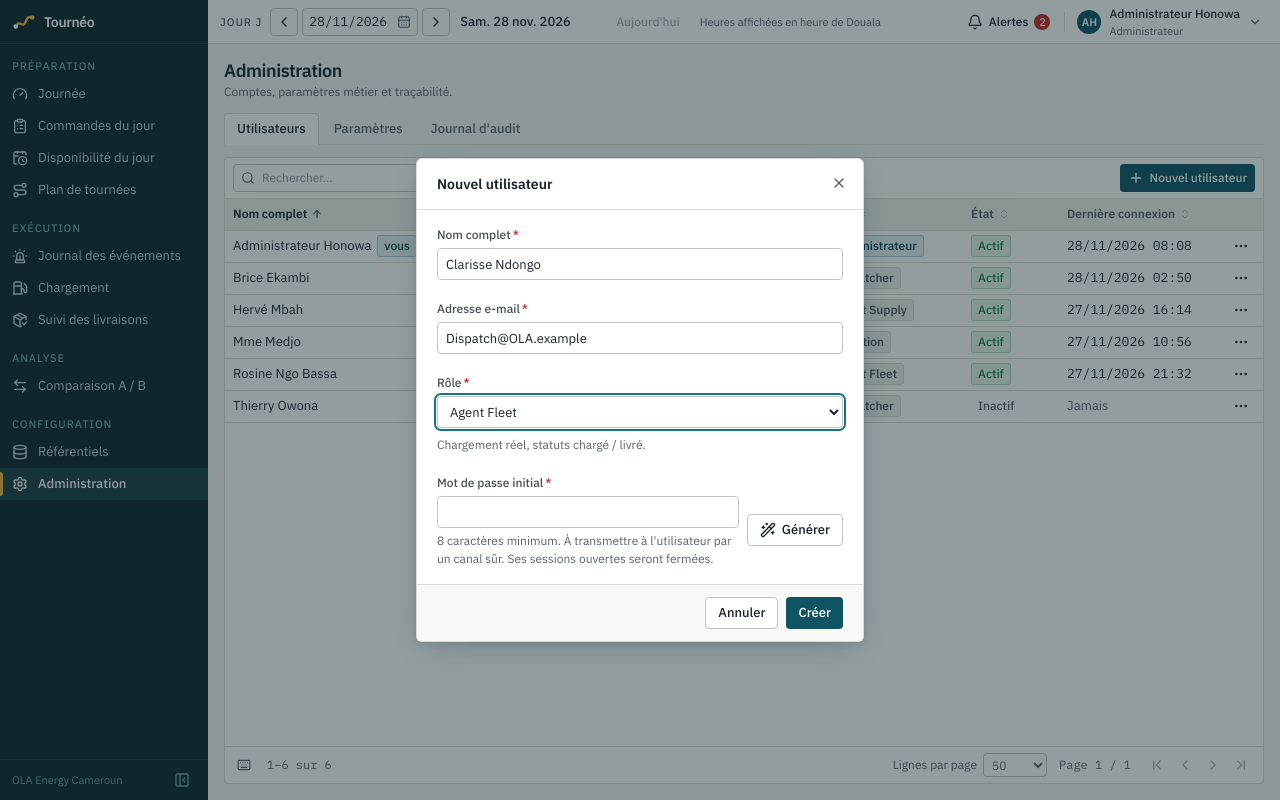
Test: Administration — utilisateurs › création : validation, mot de passe généré, e-mail déjà pris signalé sur le champ
Earlier steps of the test are not shown.
Check: the text "Chargement réel, statuts chargé / livré." is shown, box [437,437,646,452]
Type "court" into the field labelled "Mot de passe initial*" at coordinates (588, 512), box [437,496,739,528]
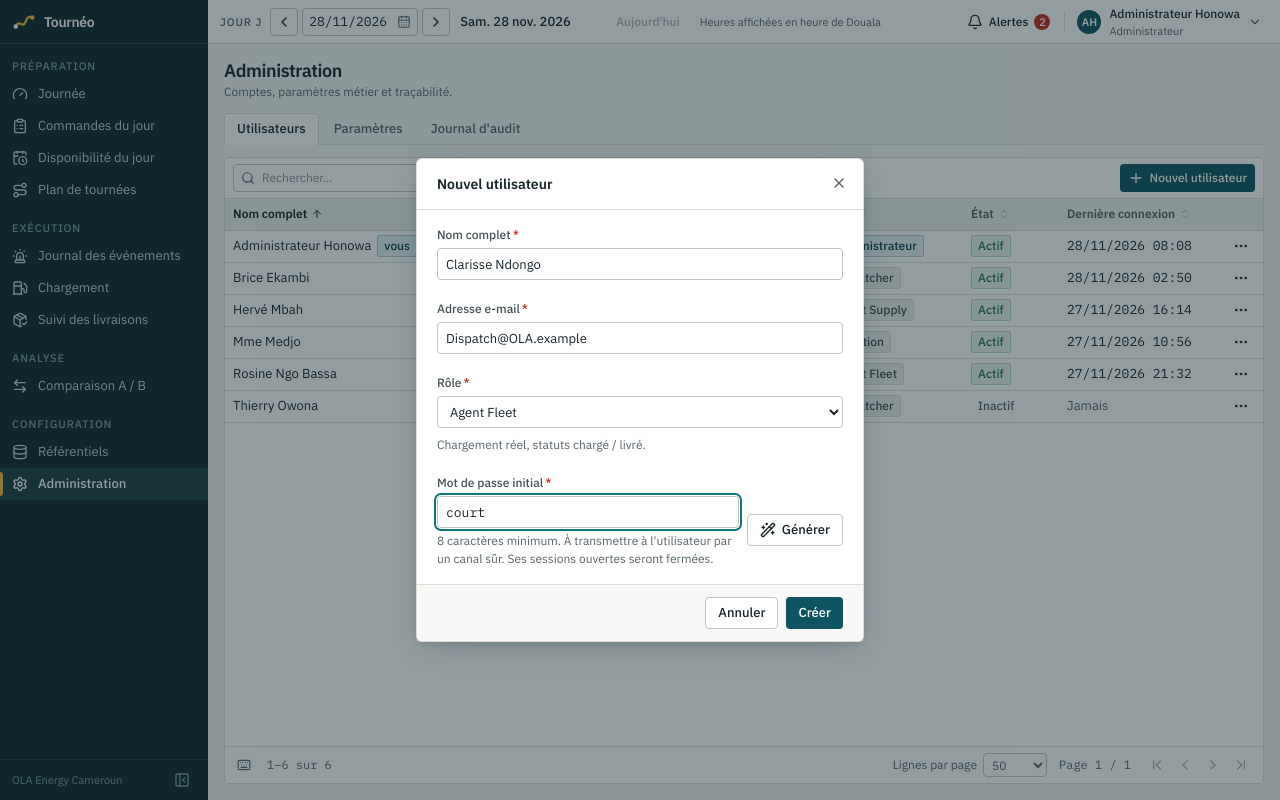
Click the button "Créer" at coordinates (815, 613), box [786,597,843,629]
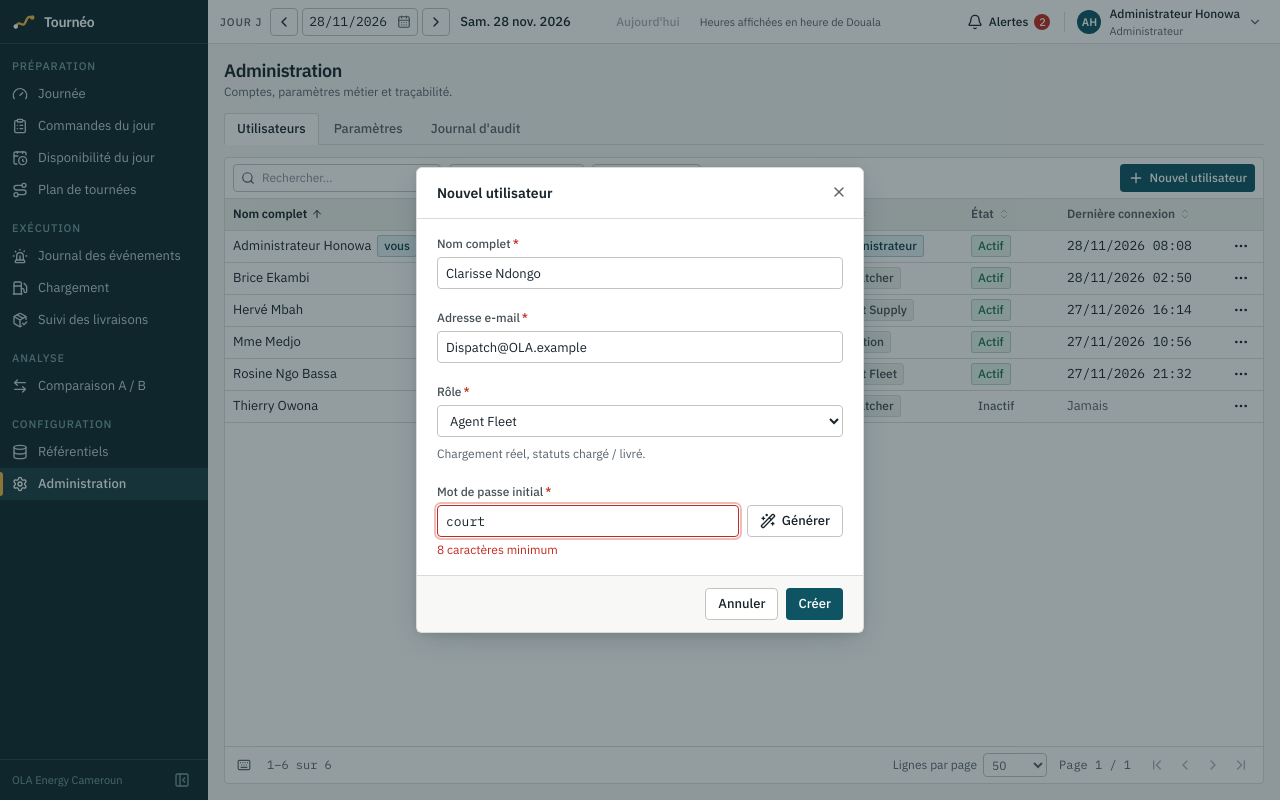
Check: the text "8 caractères minimum" is shown, box [437,542,558,557]
Click the button "Générer" at coordinates (795, 521), box [747,505,843,537]
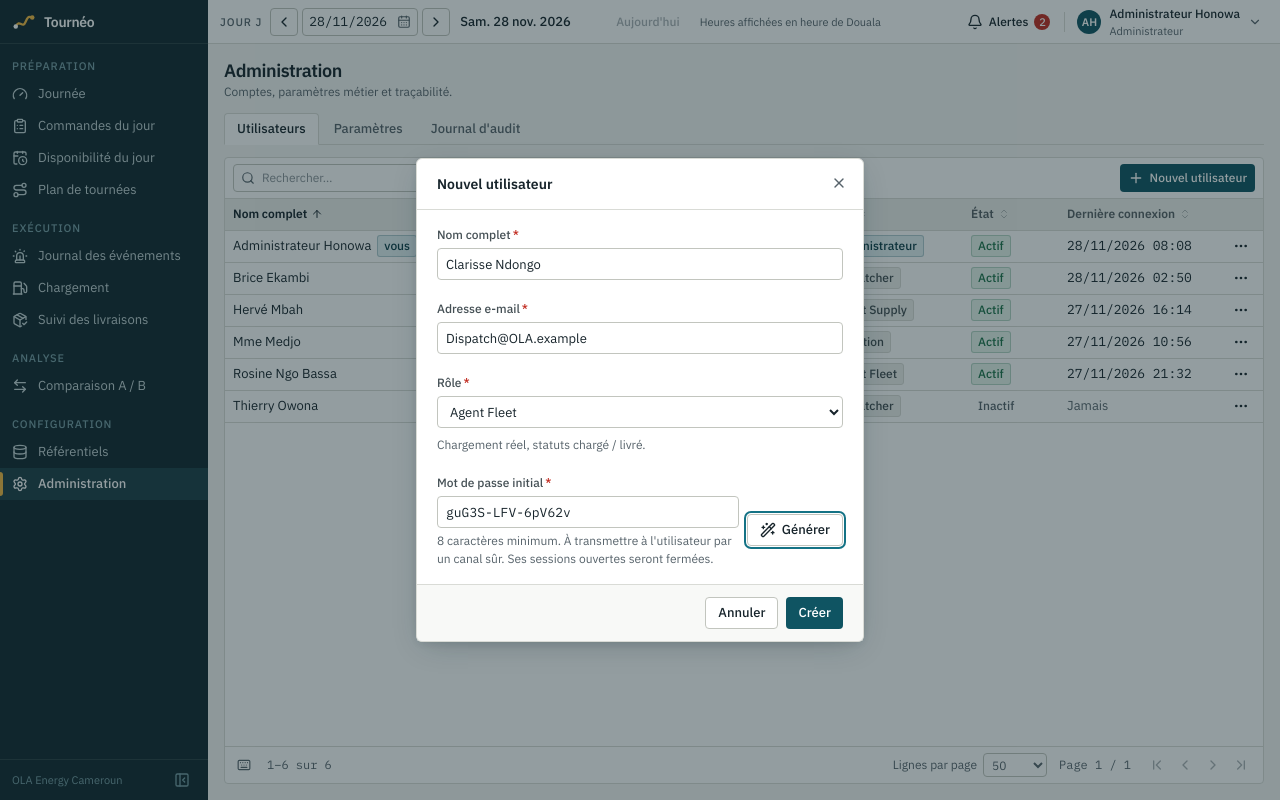
Click the button "Créer" at coordinates (815, 613), box [786,597,843,629]
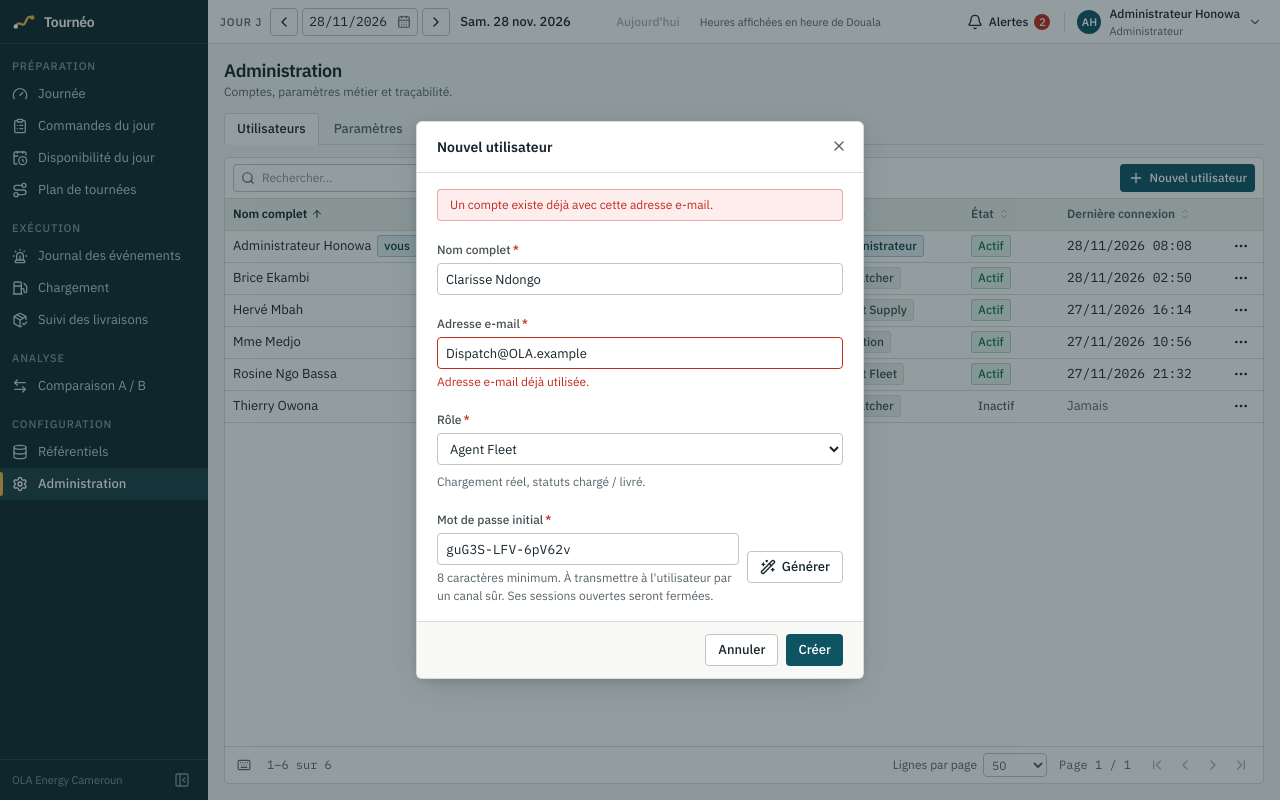
Check: the text "Un compte existe déjà avec cette adresse e-mail." is shown, box [450,197,713,212]
Replace the text in the field labelled "Adresse e-mail*" with "clarisse@ola.example" at coordinates (640, 353), box [437,337,843,369]
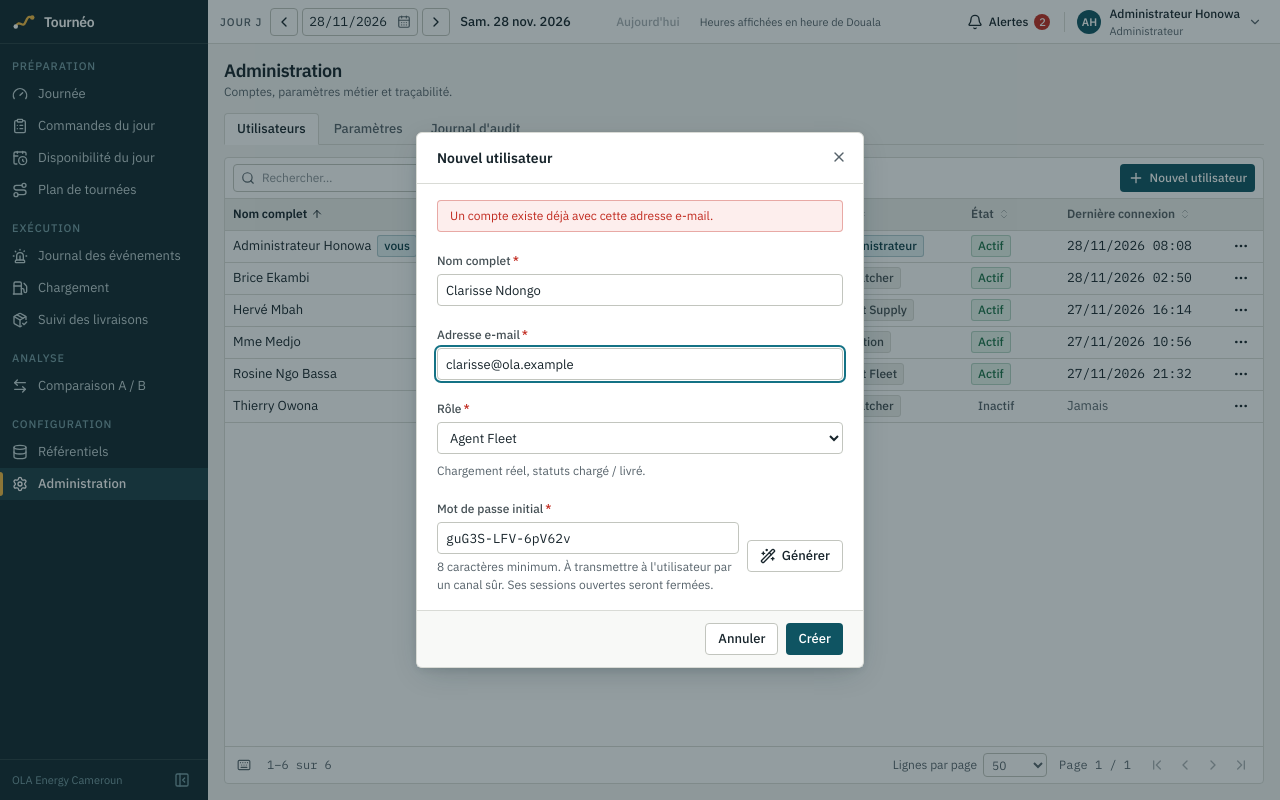
Click the button "Créer" at coordinates (815, 639), box [786,623,843,655]
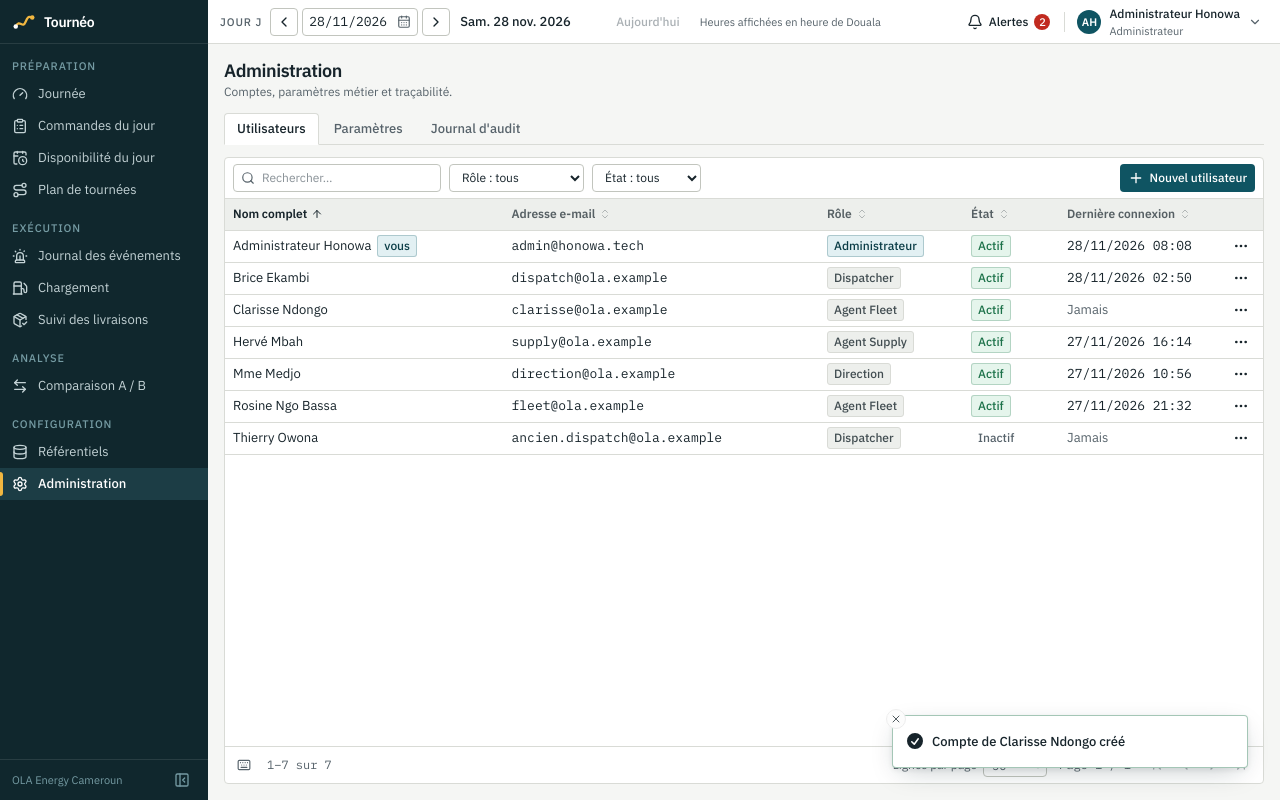
Check: the text "Compte de Clarisse Ndongo créé" is shown, box [932,732,1125,751]
Check: the text "Clarisse Ndongo" is shown, box [233,301,328,318]
